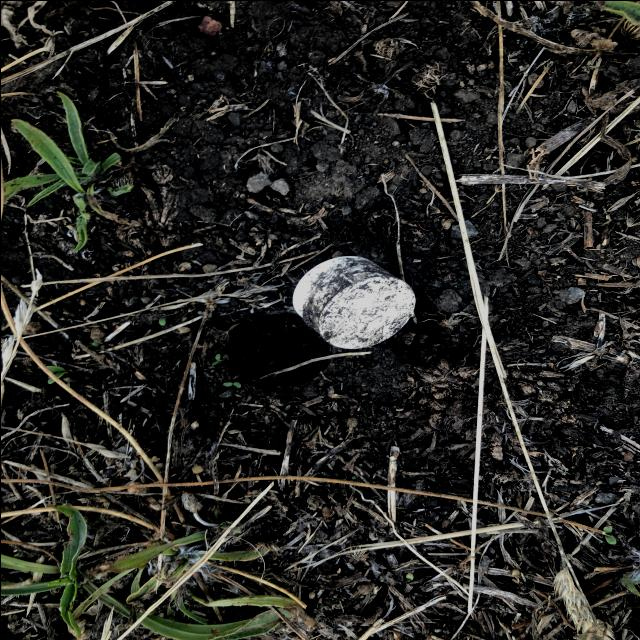Other plastic bottle: (291, 255, 415, 348)
